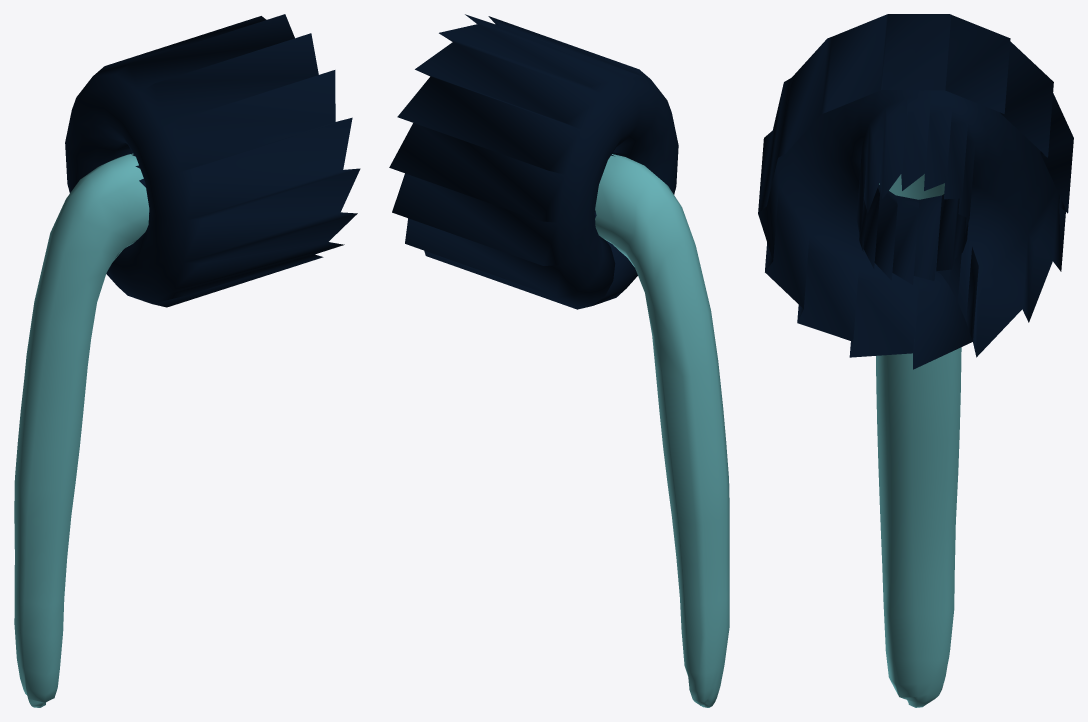
The model's file is bmobrazoizq.obj.
The picture shows the model from 3 angles, left to right: view 1: azimuth 30°, elevation 25°; view 2: azimuth 150°, elevation 25°; view 3: azimuth 270°, elevation 25°; orthographic projection. The views are drawn at different scales.
Parts seen in each view (by area): view 1: BmoBrazoIzq; view 2: BmoBrazoIzq; view 3: BmoBrazoIzq.
Part boxes in pixels (bbox=[...]): BmoBrazoIzq: bbox=[14, 14, 360, 707]; BmoBrazoIzq: bbox=[389, 14, 729, 707]; BmoBrazoIzq: bbox=[758, 14, 1073, 707].
Bounding box in the file's own units: 0.4921 × 0.9957 × 0.3687.
